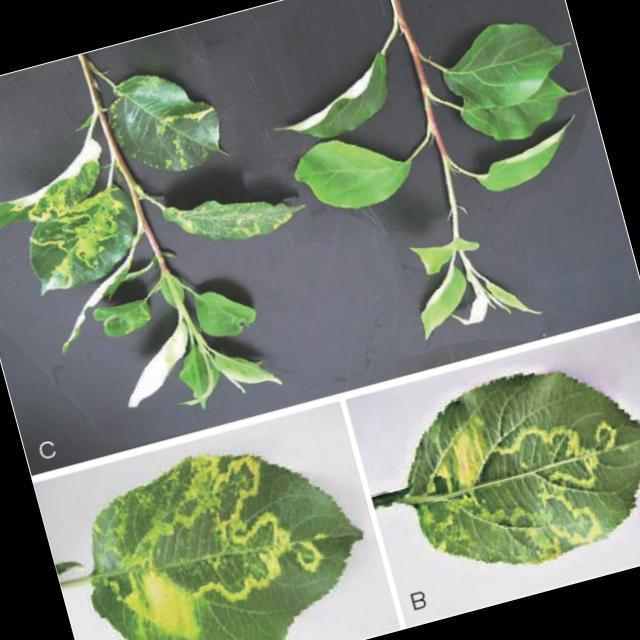Mosaic Virus: (58, 430, 367, 640), (385, 365, 640, 600), (11, 188, 150, 306), (108, 60, 237, 184), (0, 140, 106, 238), (167, 177, 283, 262)
